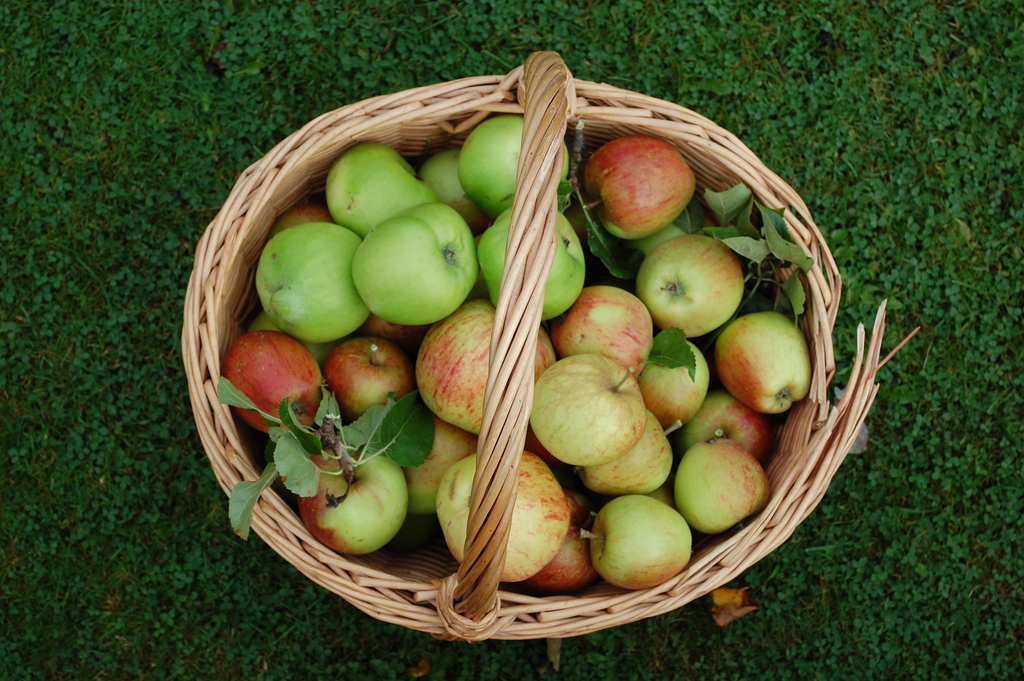Apple: (215, 114, 809, 591), (348, 203, 483, 329)
